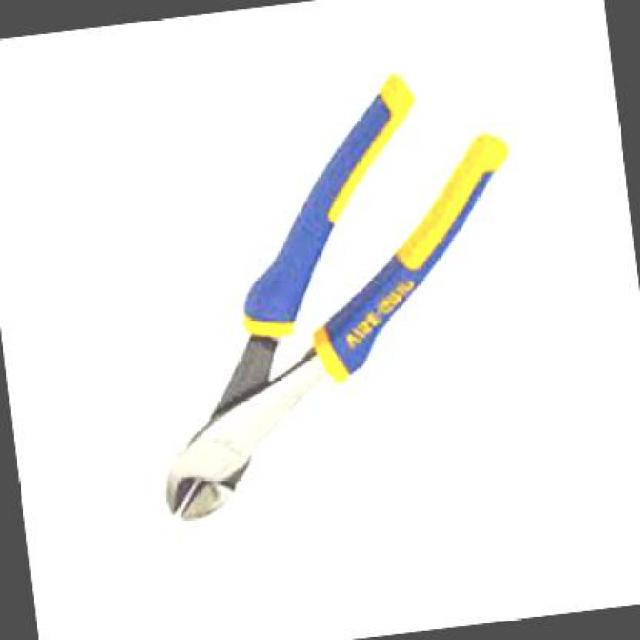Pliers: (101, 45, 561, 540)
